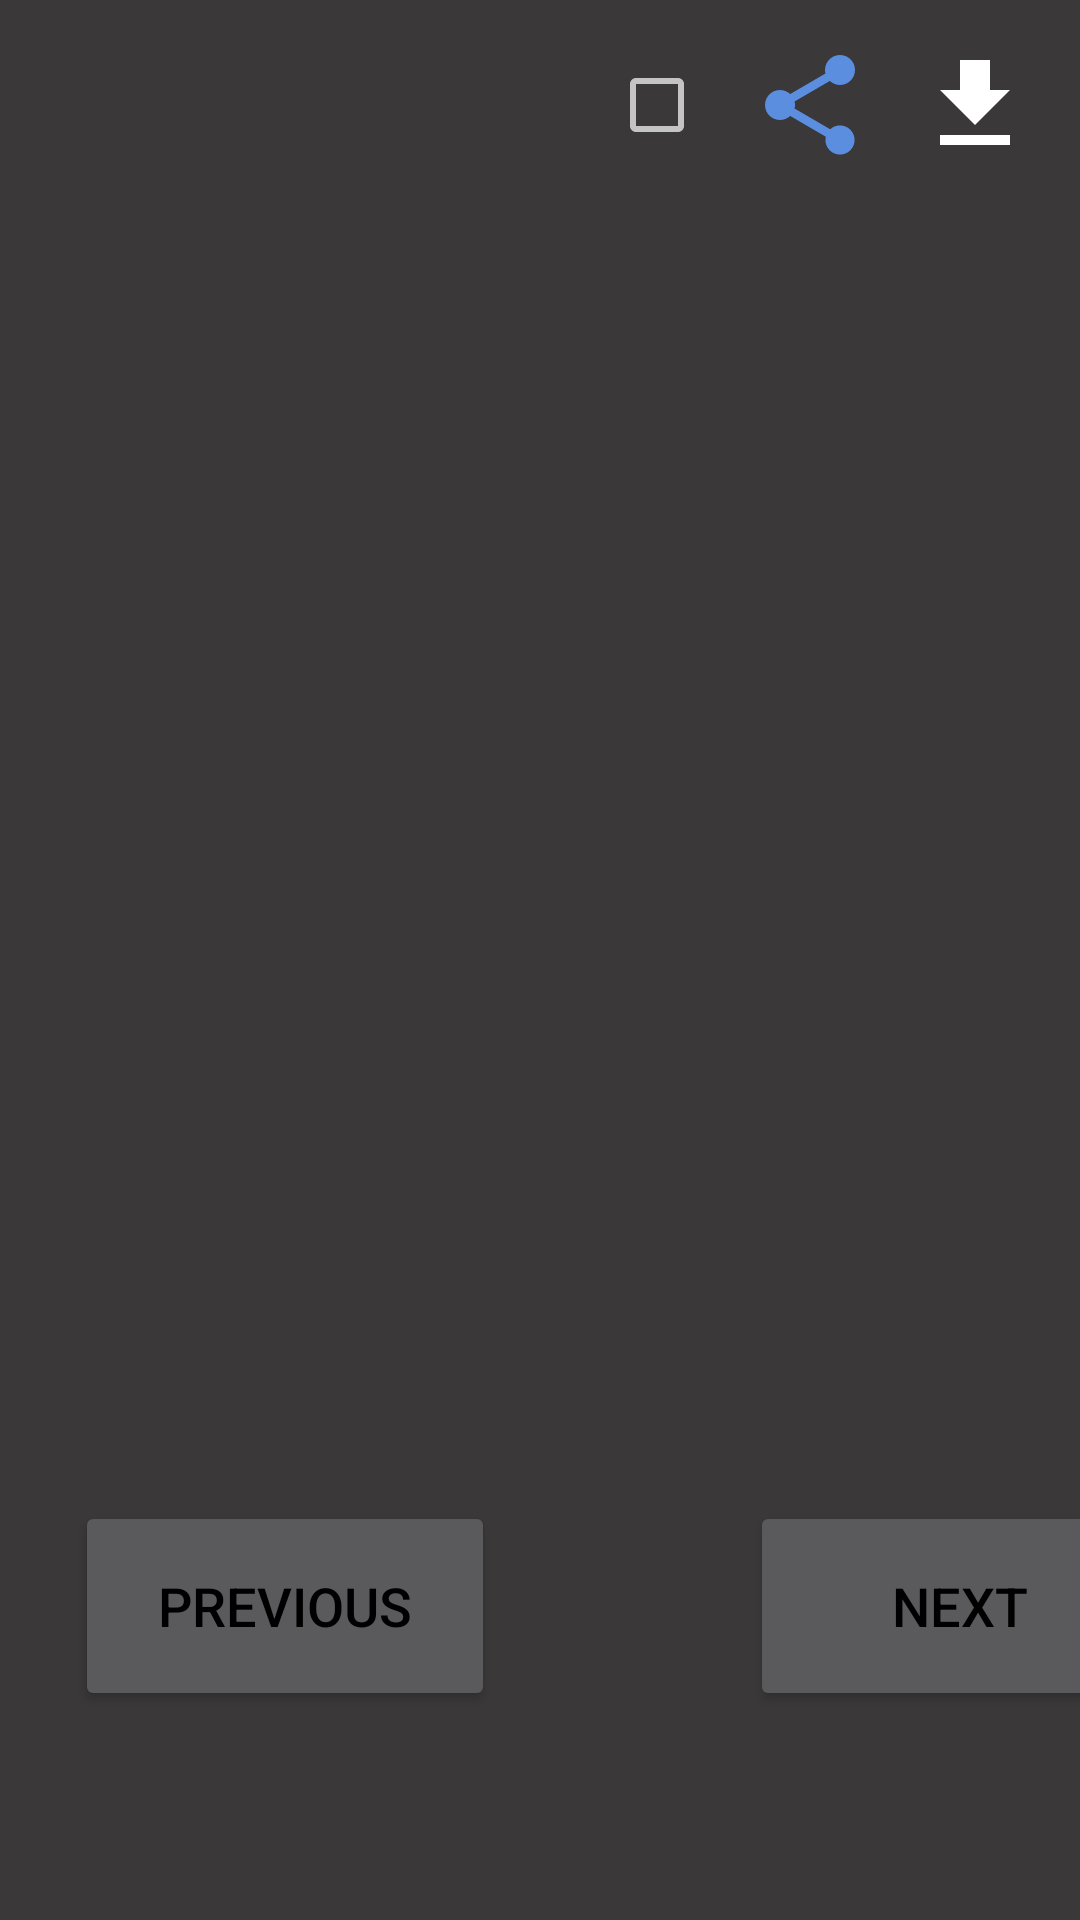

Screen size 1080*1920. Icon name, then its center in pixels as point (x, y):
download: point (975, 102)
share: point (810, 105)
